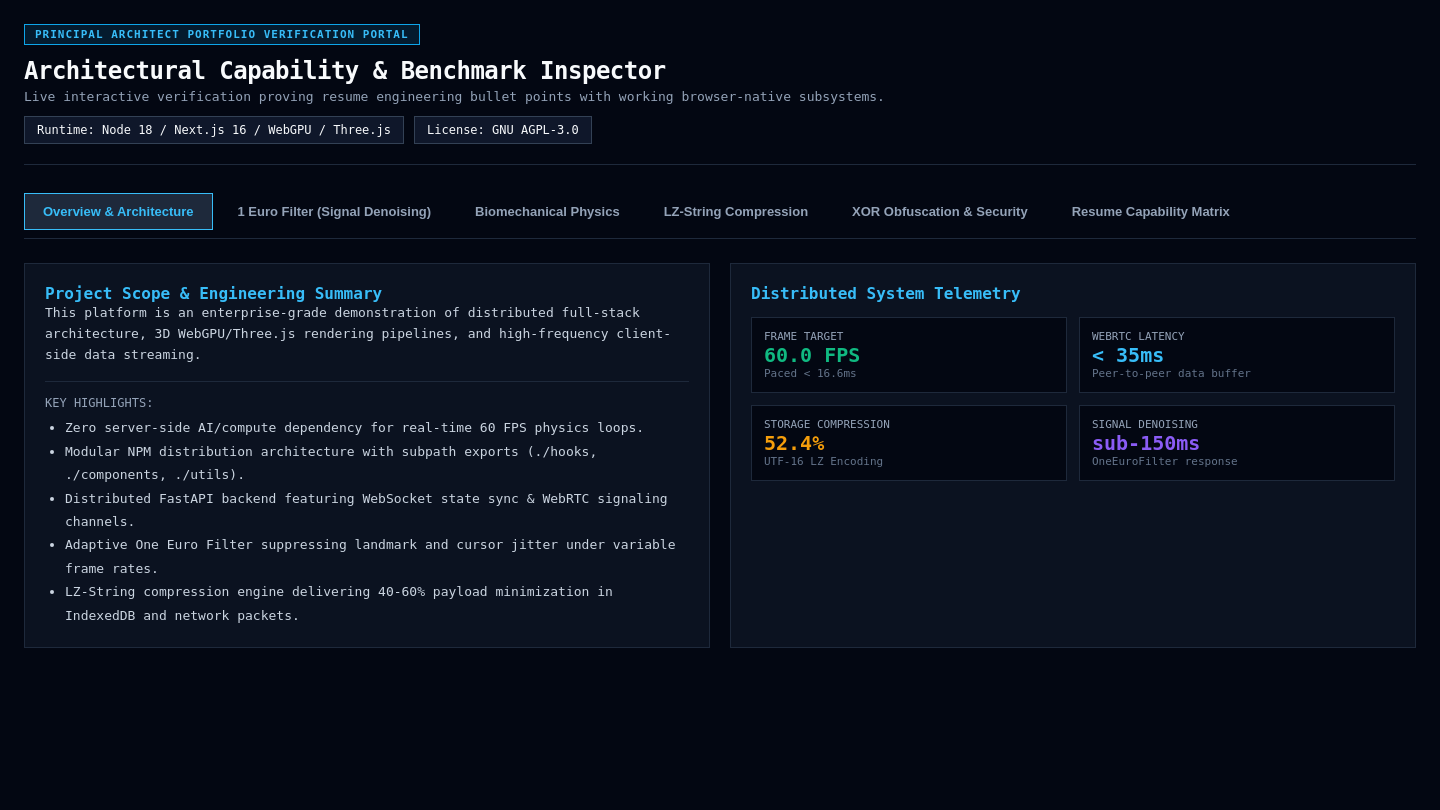
Component Rendering: RecruiterPortal › switches tabs to XOR Security and tests signature generation
The image size is (1440, 810).
Click the button "XOR Obfuscation & Security" at (940, 212), box [833, 193, 1047, 230]
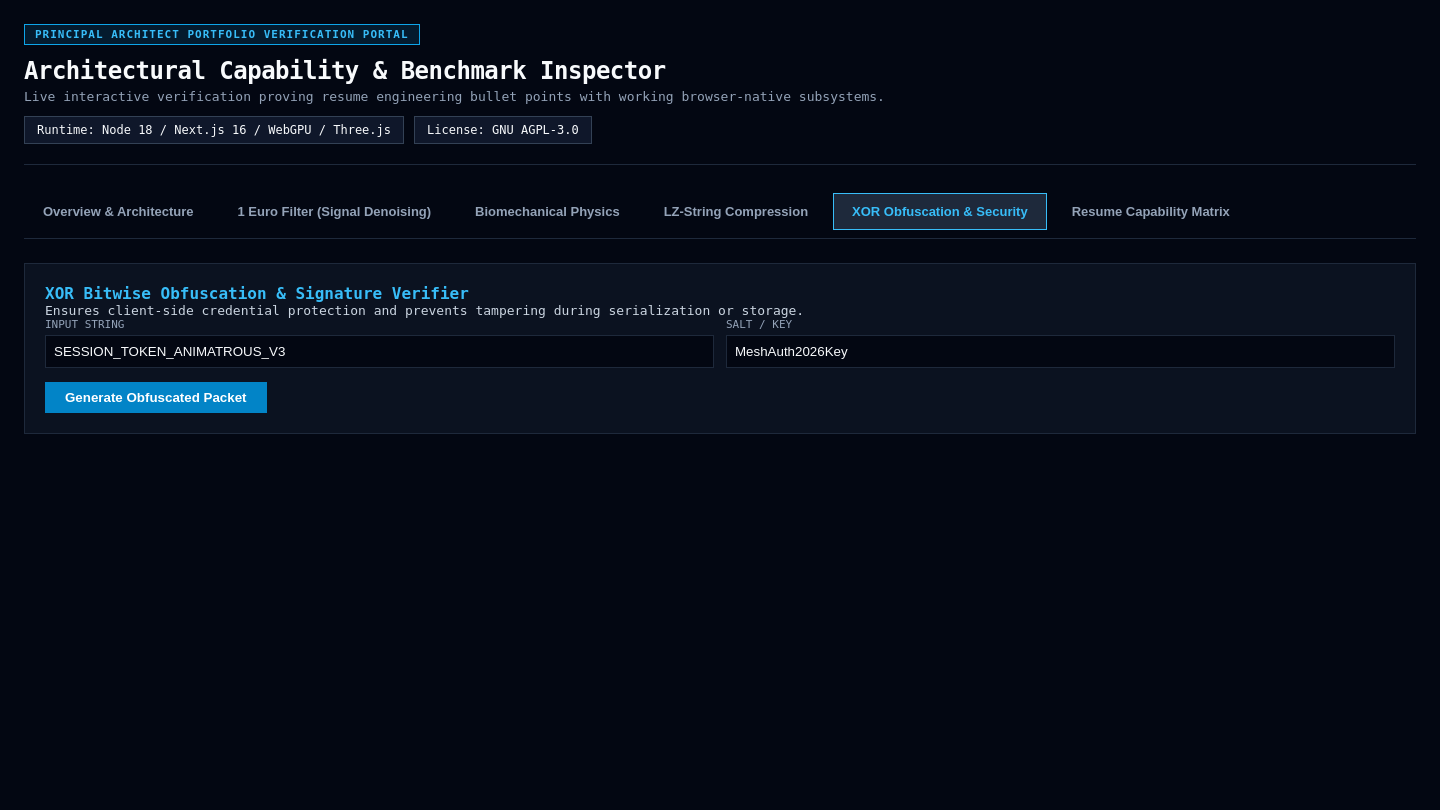
Check: the heading "XOR Bitwise Obfuscation & Signature Verifier" is shown, box [45, 284, 469, 303]
Click the button "Generate Obfuscated Packet" at (156, 398), box [45, 382, 266, 413]
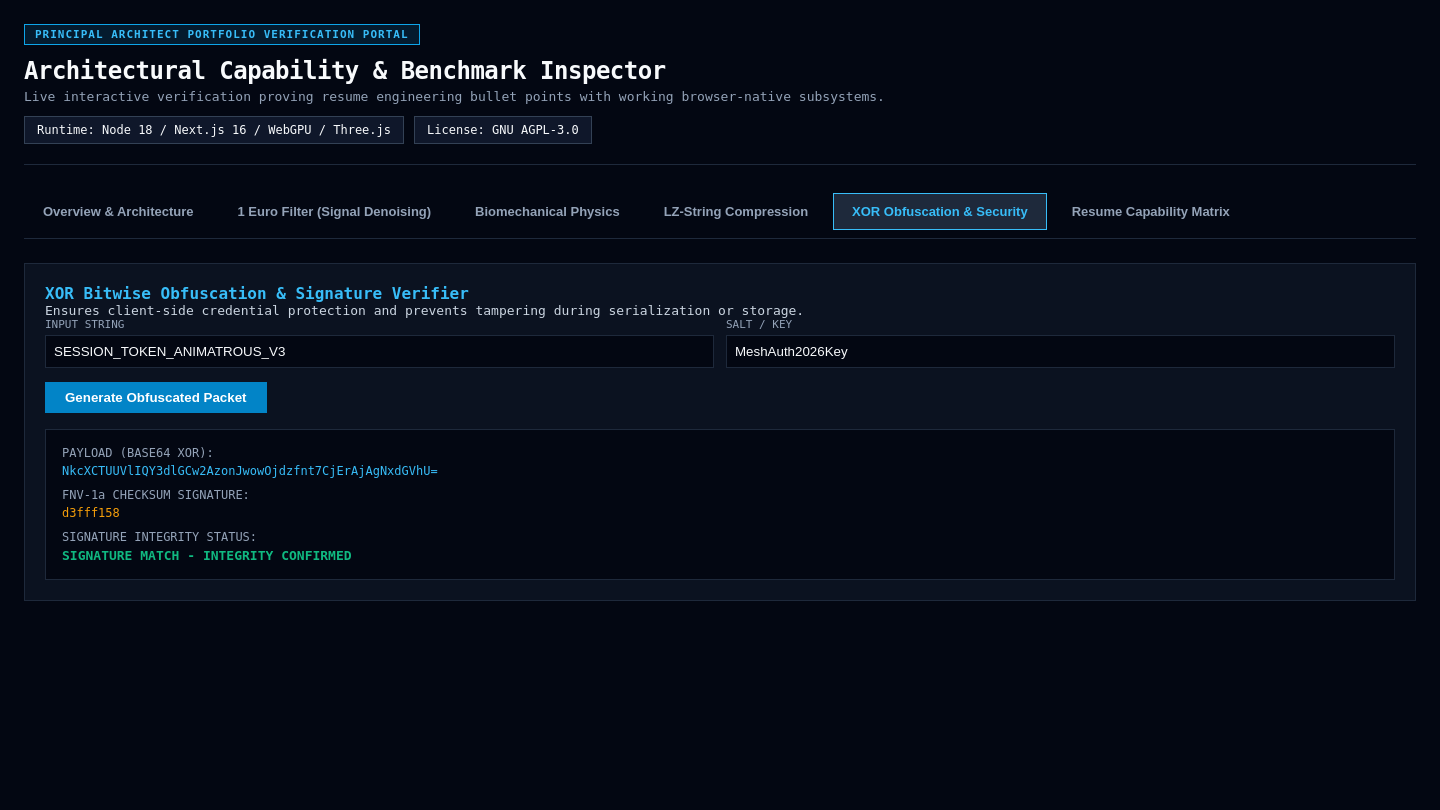
Check: the text "SIGNATURE MATCH - INTEGRITY CONFIRMED" is shown, box [62, 548, 352, 563]
